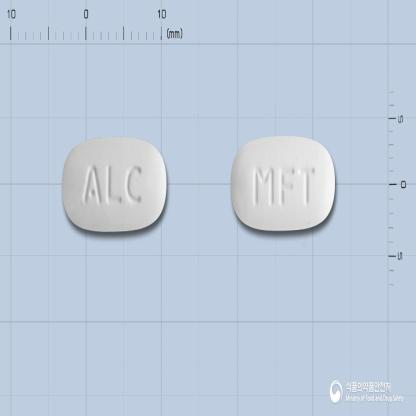pill: (230, 134, 338, 232), (61, 135, 167, 233)
